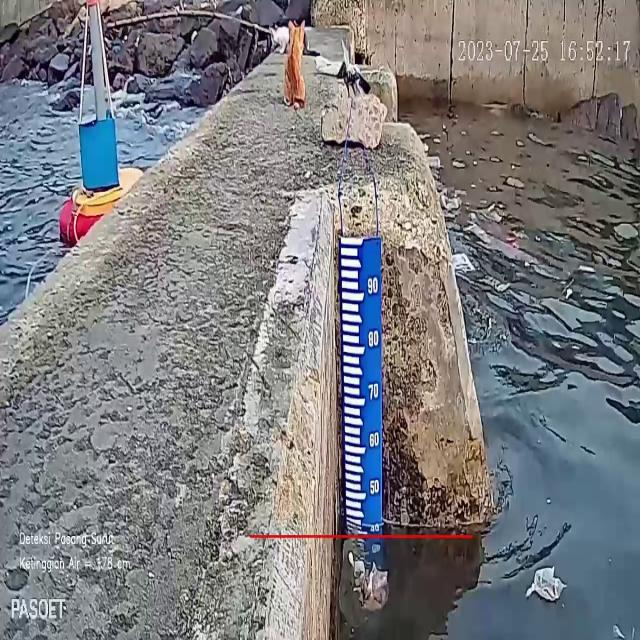water-meter: (335, 224, 387, 540)
